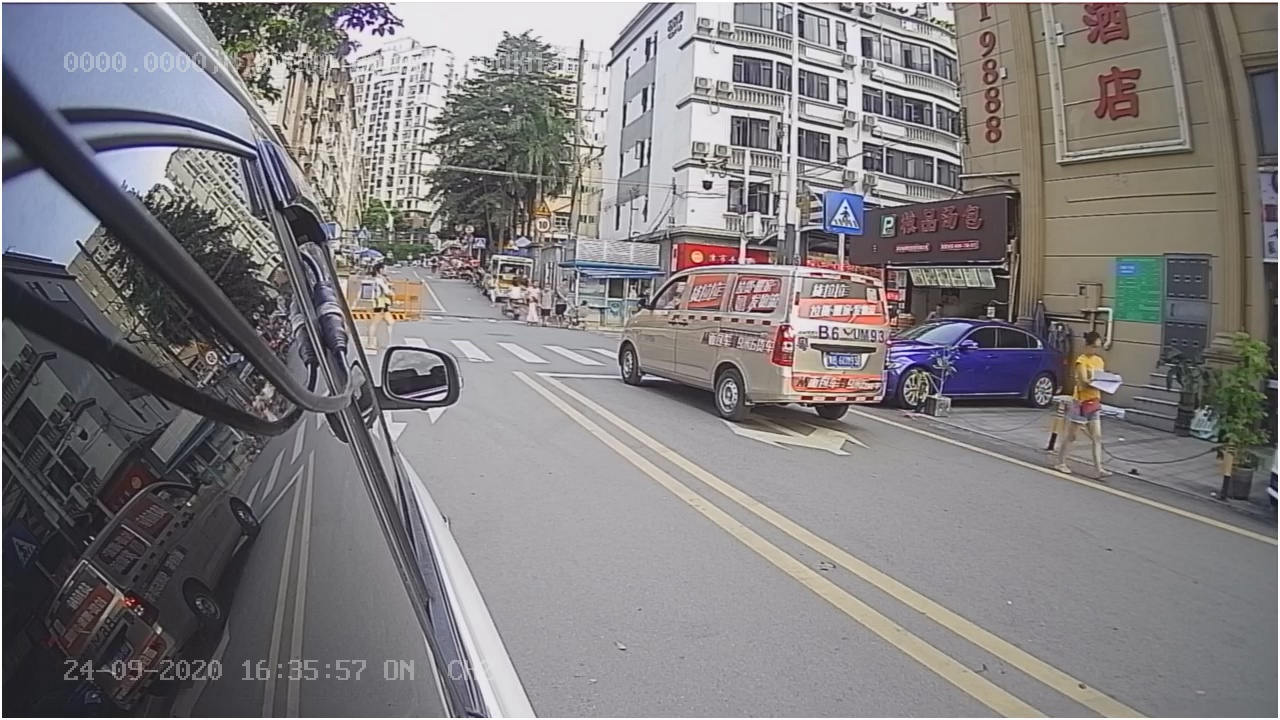person: (1039, 322, 1133, 480)
